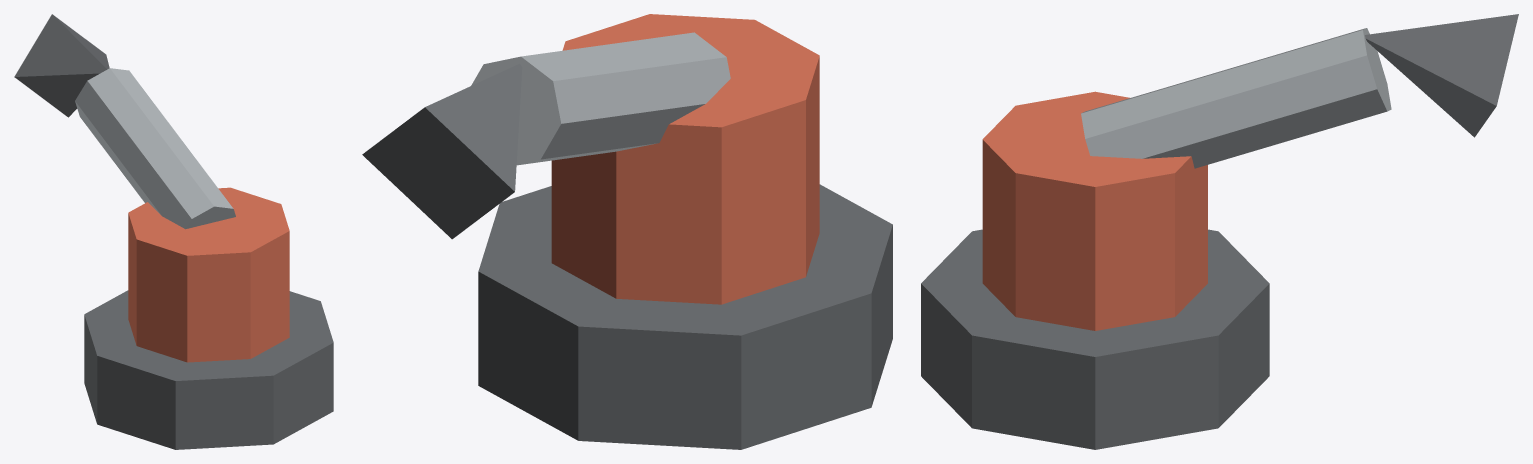
Rendered from Carpenter_HarpoonTurret_Blockout.fbx.
3 renders of one model, left to right at view 1: azimuth 30°, elevation 25°; view 2: azimuth 150°, elevation 25°; view 3: azimuth 270°, elevation 25°, orthographic. The views are drawn at different scales.
Visible parts, largest first — view 1: Carpenter_HarpoonTurret; view 2: Carpenter_HarpoonTurret; view 3: Carpenter_HarpoonTurret.
Boxes of the visible parts, x1,y1,x2,y2 form: Carpenter_HarpoonTurret: (14,14,333,449); Carpenter_HarpoonTurret: (362,14,892,449); Carpenter_HarpoonTurret: (921,14,1518,449).
Bounding box in the file's own units: 0.68 × 0.7799 × 1.17.
